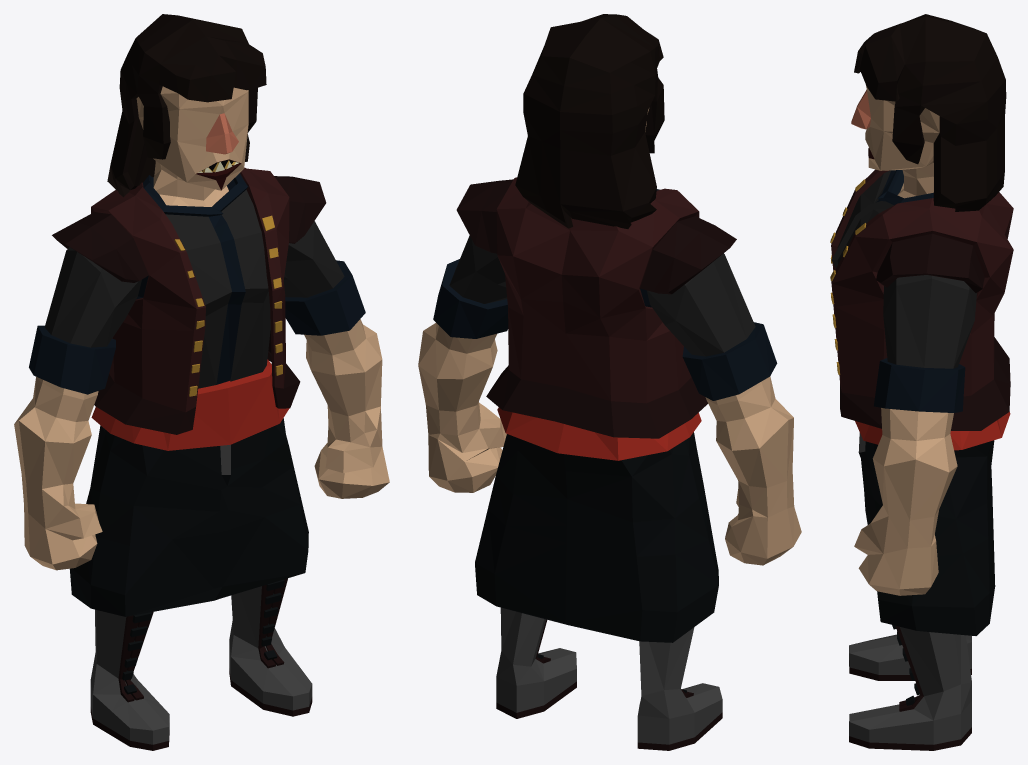
File: VampireIdle3.dae
3 views of the same model, side by side, from view 1: azimuth 30°, elevation 25°; view 2: azimuth 150°, elevation 25°; view 3: azimuth 270°, elevation 25° (orthographic). The views are drawn at different scales.
Visible parts, largest first — view 1: _0_VAMPIREbase1_01exp_Layer5; view 2: _0_VAMPIREbase1_01exp_Layer5; view 3: _0_VAMPIREbase1_01exp_Layer5.
Part boxes in pixels (x1,y1,x2,y2): _0_VAMPIREbase1_01exp_Layer5: (14,14,389,750); _0_VAMPIREbase1_01exp_Layer5: (418,14,801,750); _0_VAMPIREbase1_01exp_Layer5: (830,14,1013,750).
Size of the model in its own units: 4.88 by 2.16 by 8.92.
